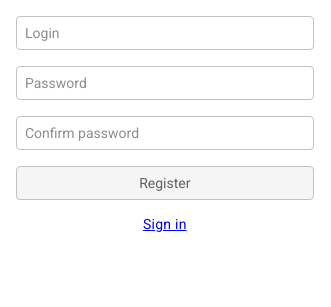
Test: <RegisterInput></RegisterInput> › when register button clicked and passwords do not match › should show validation errors
This screenshot has width=331, height=307.
Type "login" into the field with placeholder "Login" at [165, 33], box [16,16,314,50]
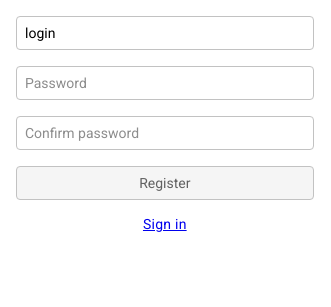
Type "password" into the password field with placeholder "Password" at [165, 83], box [16,66,314,100]
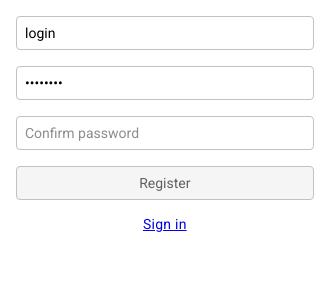
Type "password_new" into the password field with placeholder "Confirm password" at [165, 133], box [16,116,314,150]
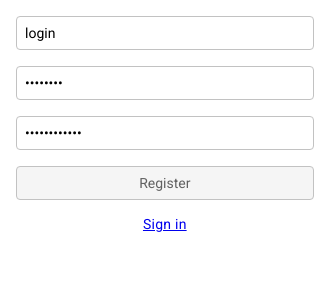
Click the button "Register" at [165, 183], box [16,166,314,200]
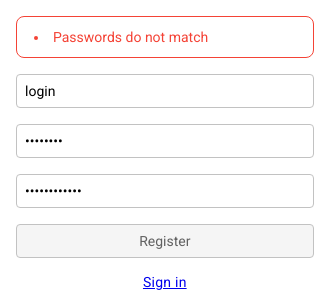
expect the list item "Passwords do not match" is shown: met, box [53,29,208,45]
